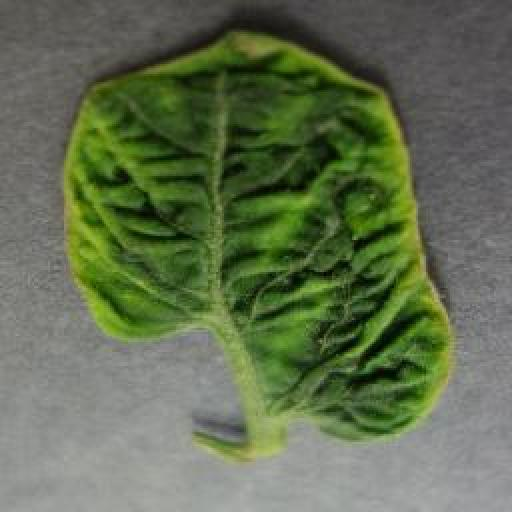disease_tomato: (58, 32, 451, 447)
